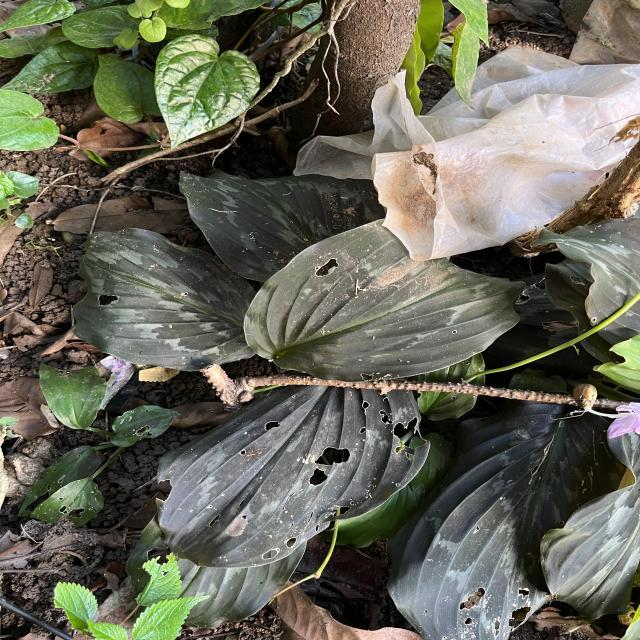Kaempferia galanga linn: (240, 216, 530, 384), (67, 224, 257, 373)
